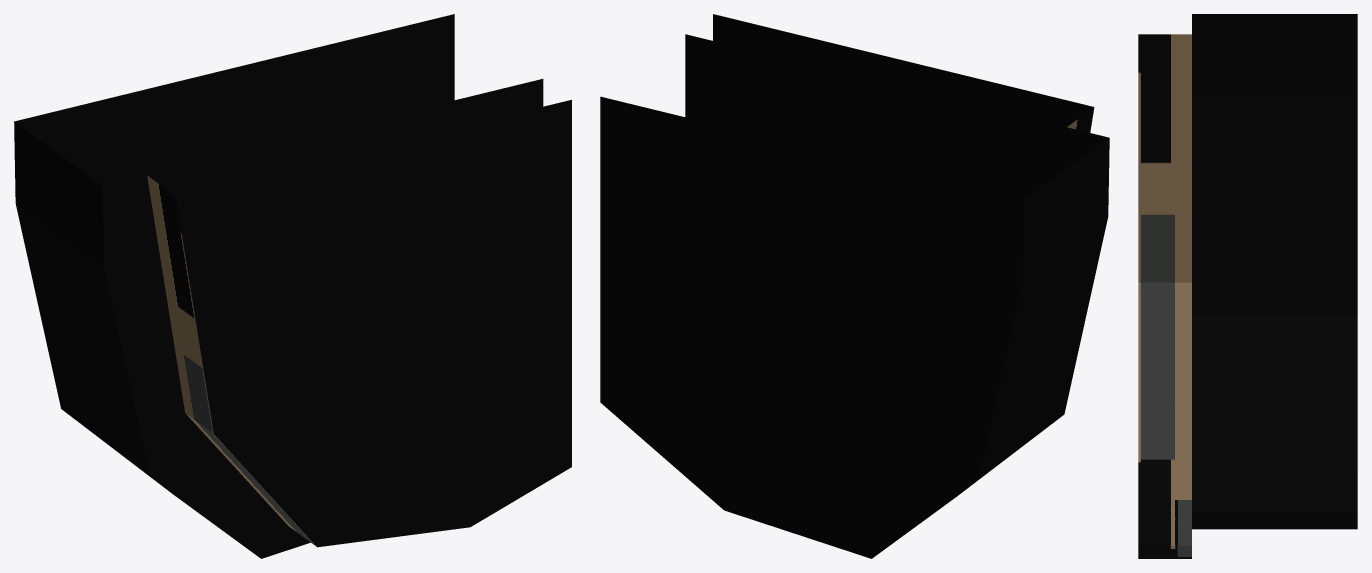
Rendered from section-5.obj.
3 views of the same model, side by side, from view 1: azimuth 30°, elevation 25°; view 2: azimuth 150°, elevation 25°; view 3: azimuth 270°, elevation 25° (orthographic). The views are drawn at different scales.
Bounding box in the file's own units: 1.06 × 0.95 × 0.49.
